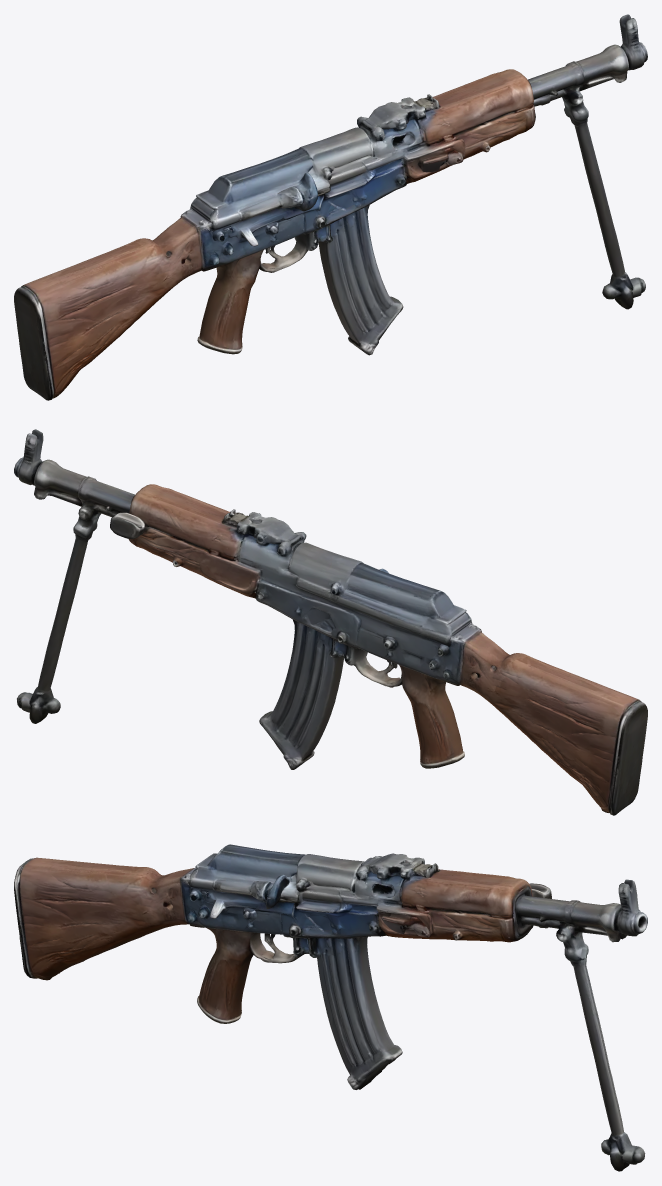
The model's file is rn_doughboy.glb.
The picture shows the model from 3 angles, top to bottom: view 1: azimuth 30°, elevation 25°; view 2: azimuth 150°, elevation 25°; view 3: azimuth 330°, elevation 25°; orthographic projection.
Parts seen in each view (by area): view 1: tripo_node_cea6d6c0-2900-4c66-ab80-0af54f801c28; view 2: tripo_node_cea6d6c0-2900-4c66-ab80-0af54f801c28; view 3: tripo_node_cea6d6c0-2900-4c66-ab80-0af54f801c28.
Part boxes in pixels (x1=…): tripo_node_cea6d6c0-2900-4c66-ab80-0af54f801c28: x1=14, y1=14, x2=647, y2=400; tripo_node_cea6d6c0-2900-4c66-ab80-0af54f801c28: x1=14, y1=429, x2=647, y2=815; tripo_node_cea6d6c0-2900-4c66-ab80-0af54f801c28: x1=14, y1=844, x2=647, y2=1171.
Size of the model in its own units: 0.9816 by 0.436 by 0.1221.
1 material, 1 textured.
